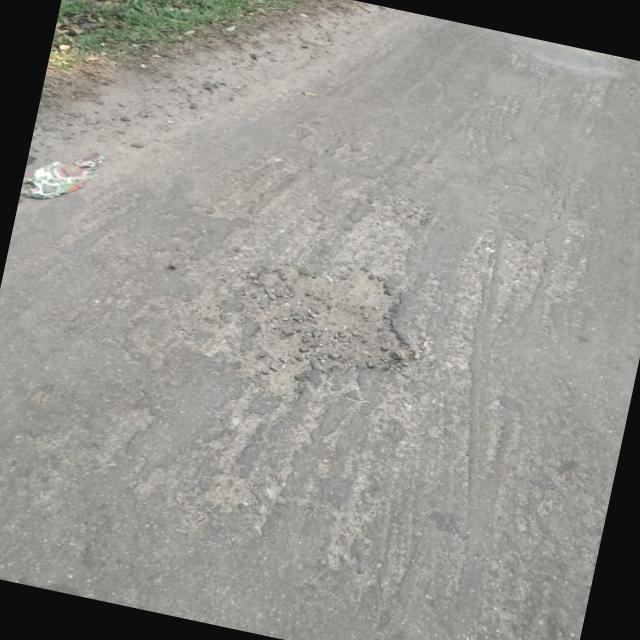Lubang: (220, 262, 411, 372)
